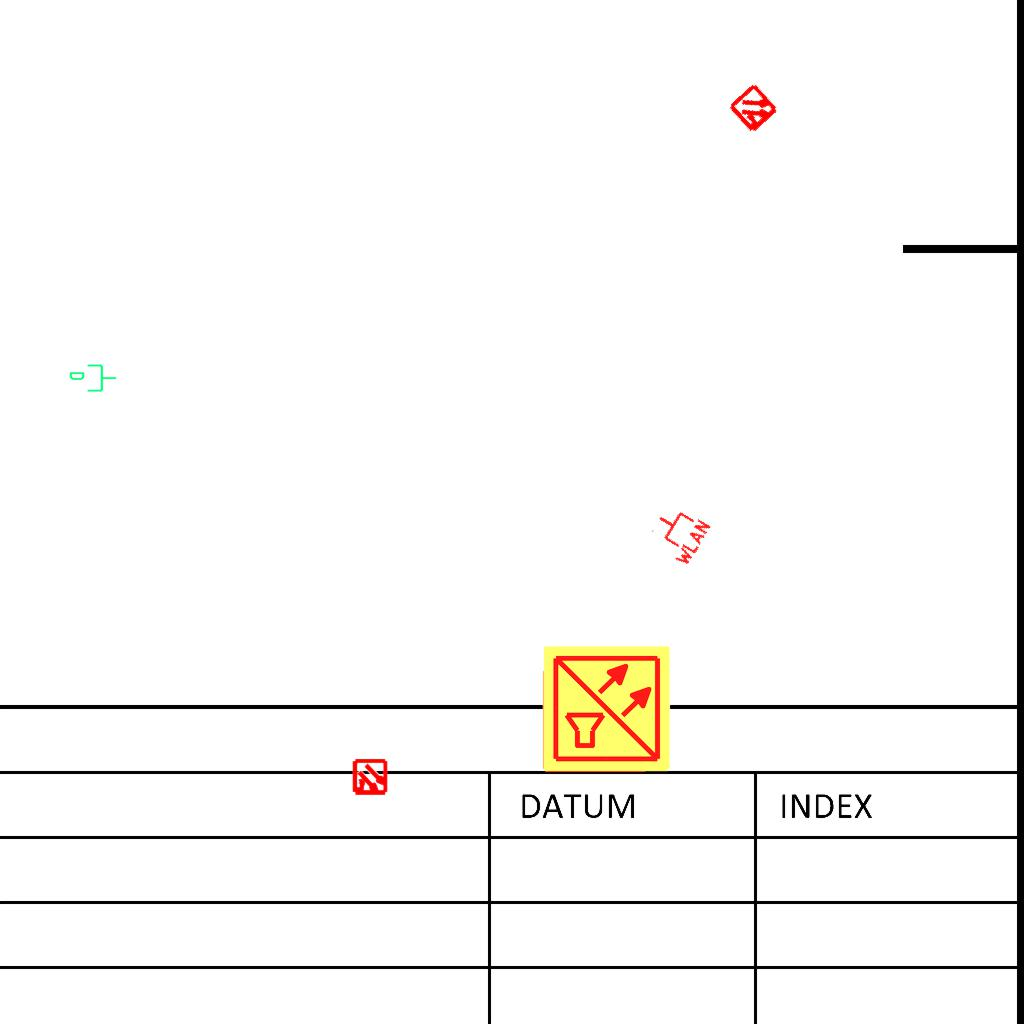Datenanschluss_einfach: (68, 362, 118, 396)
OKW_Multisensormelder_(Kombination_optischer_Rauch-Kahlenmonoxid_Waerme-Melder): (541, 643, 673, 775)
OT_Multisensormelder_(Kombination_RMO_WMD): (714, 69, 794, 149), (342, 750, 398, 806)
WLAN: (642, 498, 714, 570)
